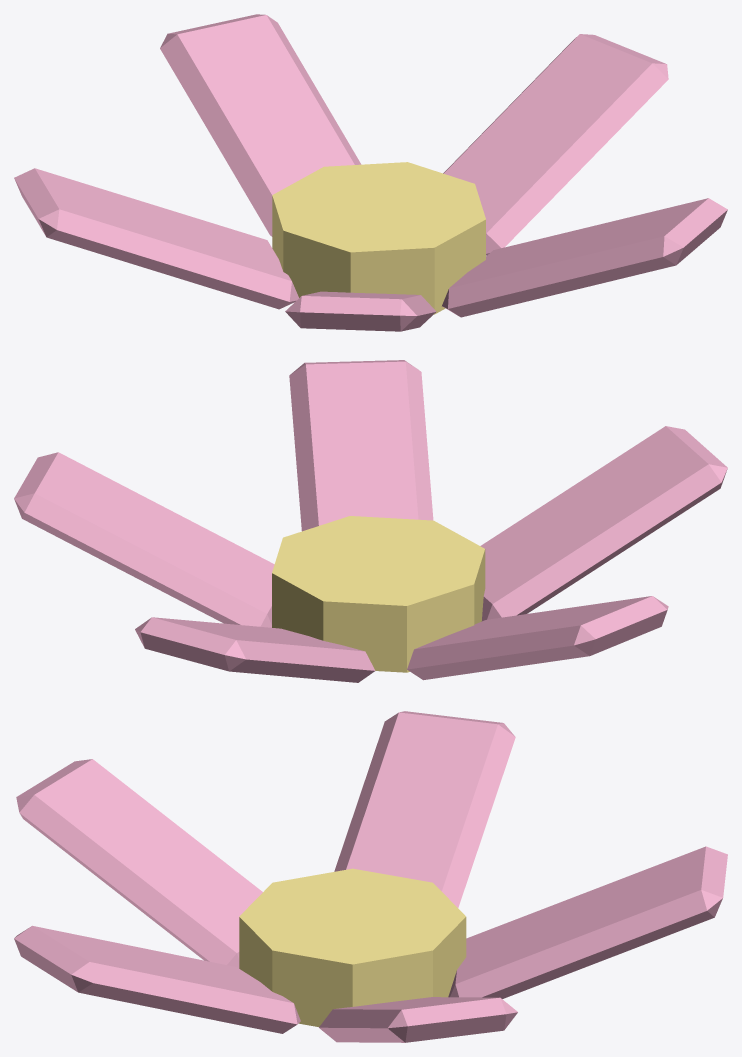
The model's file is golem_flower_pink_01.glb.
The picture shows the model from 3 angles, top to bottom: view 1: azimuth 30°, elevation 25°; view 2: azimuth 150°, elevation 25°; view 3: azimuth 270°, elevation 25°; orthographic projection. The views are drawn at different scales.
Parts seen in each view (by area): view 1: golem_flower_pink; view 2: golem_flower_pink; view 3: golem_flower_pink.
Boxes of the visible parts, bbox=[...] form: golem_flower_pink: bbox=[14, 14, 727, 331]; golem_flower_pink: bbox=[14, 360, 727, 682]; golem_flower_pink: bbox=[14, 711, 727, 1042].
Size of the model in its own units: 0.4929 by 0.0925 by 0.4718.
